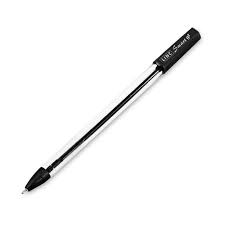pen: (20, 28, 201, 196)
